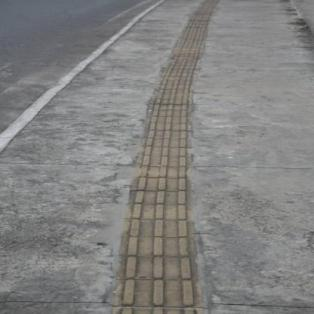Podoctatil: (117, 6, 216, 314)
